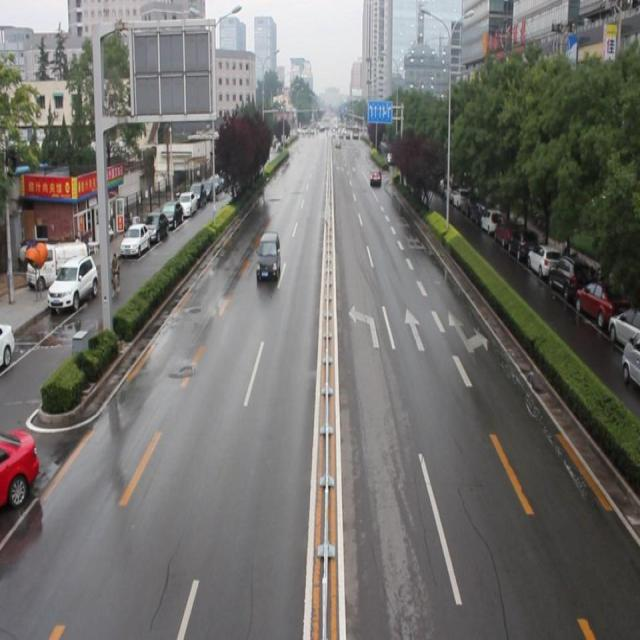car: (0, 428, 40, 509), (369, 166, 381, 186)
truck: (255, 233, 282, 279)
